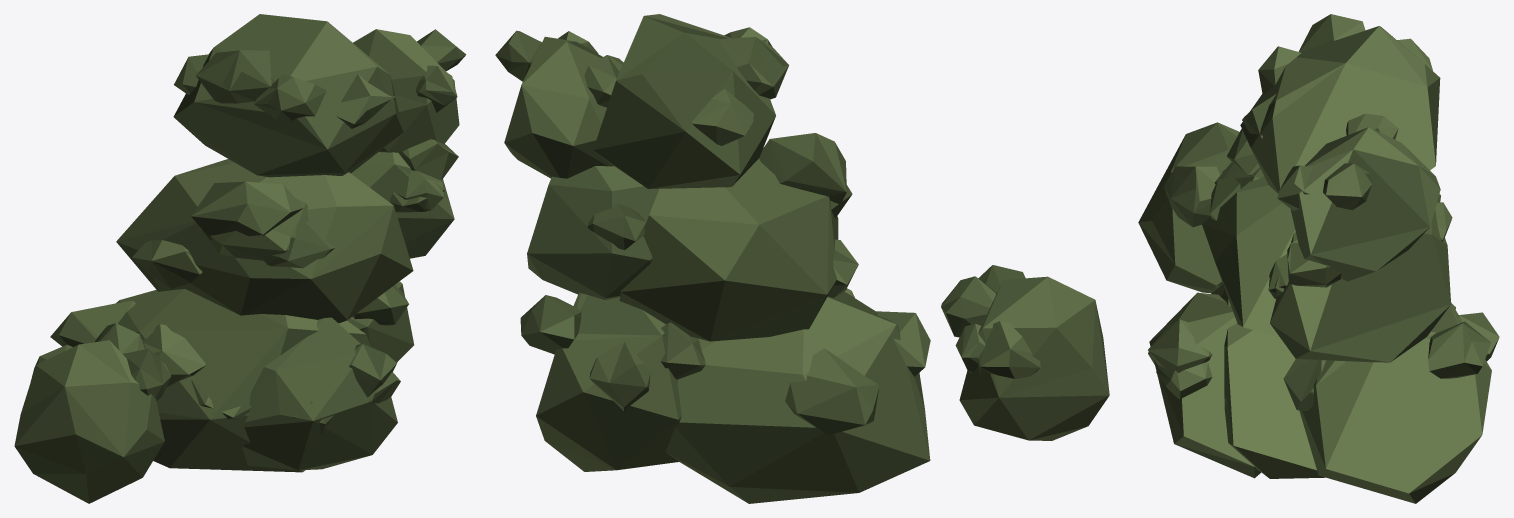
Rendered from Leaves_B.glb.
The picture shows the model from 3 angles, left to right: view 1: azimuth 30°, elevation 25°; view 2: azimuth 150°, elevation 25°; view 3: azimuth 270°, elevation 25°; orthographic projection. The views are drawn at different scales.
Visible parts, largest first — view 1: Leaves; view 2: Leaves; view 3: Leaves.
Part boxes in pixels (left/top/right/bottom): Leaves: left=14, top=14, right=466, bottom=503; Leaves: left=495, top=14, right=1109, bottom=503; Leaves: left=1138, top=14, right=1499, bottom=503.
Size of the model in its own units: 23.51 by 19.25 by 13.62.
